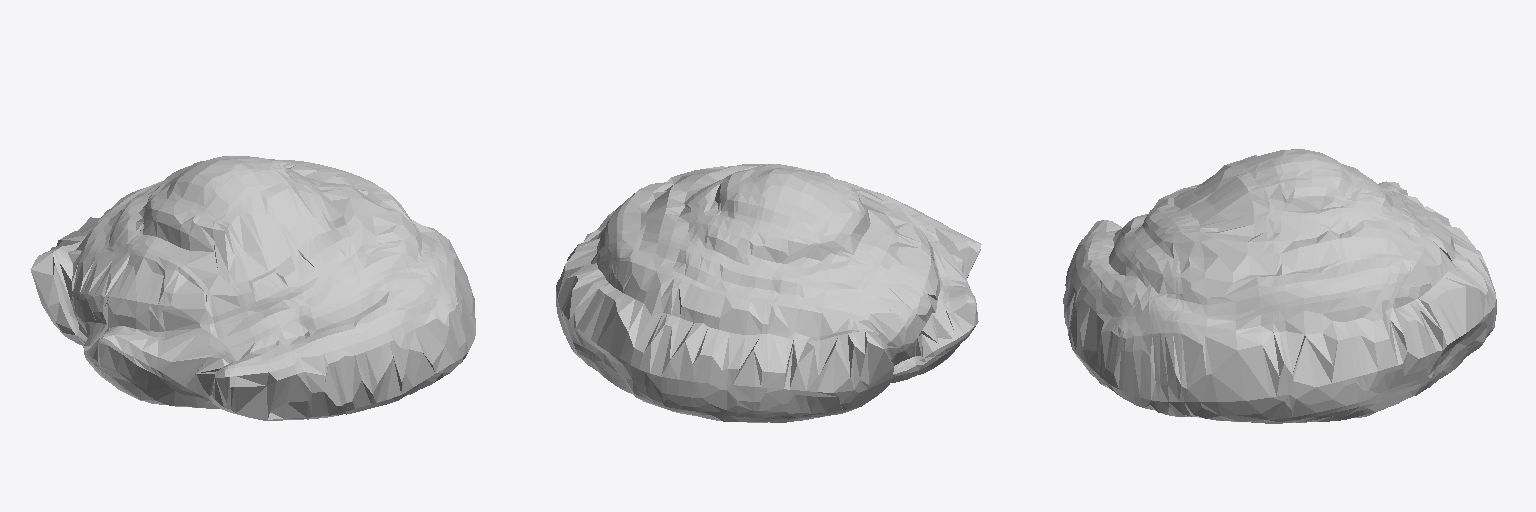
Rendered from cinnamon2.obj.
3 renders of one model, left to right at view 1: azimuth 30°, elevation 25°; view 2: azimuth 150°, elevation 25°; view 3: azimuth 270°, elevation 25°, orthographic.
Visible parts, largest first — view 1: pasted__pasted__polySurface4176 croissant5k28:croissant5k20:Mesh; view 2: pasted__pasted__polySurface4176 croissant5k28:croissant5k20:Mesh; view 3: pasted__pasted__polySurface4176 croissant5k28:croissant5k20:Mesh.
Part boxes in pixels (x1,y1,x2,y2): pasted__pasted__polySurface4176 croissant5k28:croissant5k20:Mesh: (30, 156, 475, 420); pasted__pasted__polySurface4176 croissant5k28:croissant5k20:Mesh: (556, 164, 981, 422); pasted__pasted__polySurface4176 croissant5k28:croissant5k20:Mesh: (1063, 149, 1496, 423).
Size of the model in its own units: 0.173 by 0.0806 by 0.1764.